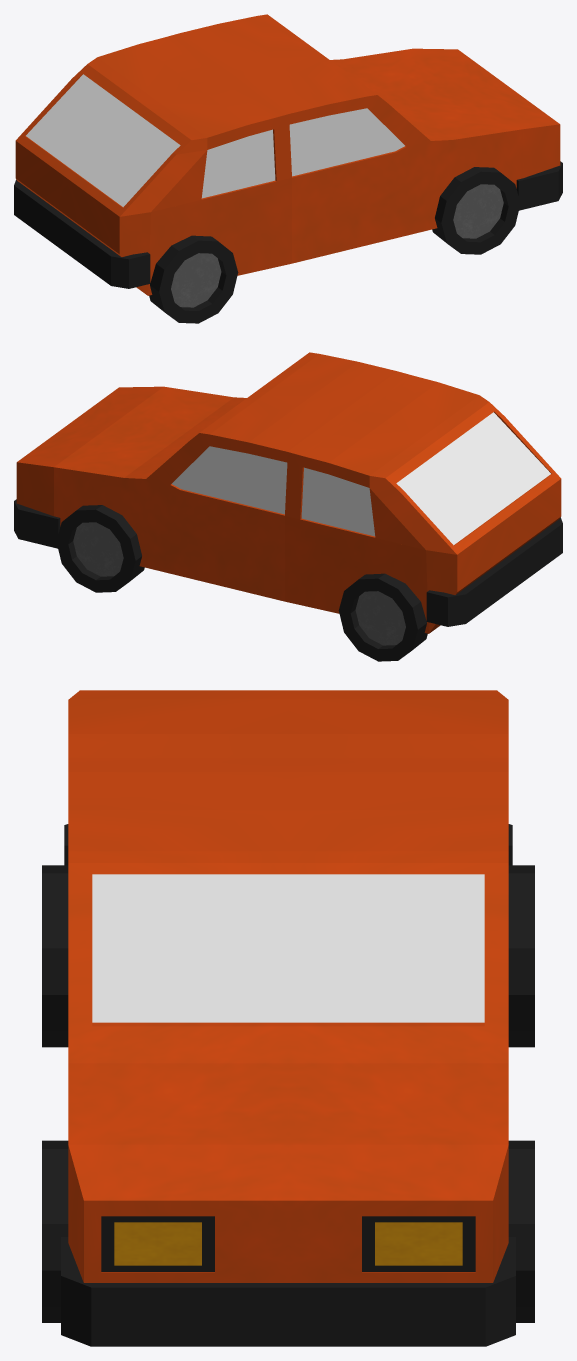
Rendered from mod_obj_veh_Yugo.fbx.
The picture shows the model from 3 angles, top to bottom: view 1: azimuth 30°, elevation 25°; view 2: azimuth 150°, elevation 25°; view 3: azimuth 270°, elevation 25°; orthographic projection. The views are drawn at different scales.
Parts seen in each view (by area): view 1: mesh_yugoNew_main, mesh_yugoNew_Glass, mesh_yugoNew_wheelBackLeft, mesh_yugoNew_wheelFrontLeft; view 2: mesh_yugoNew_main, mesh_yugoNew_Glass, mesh_yugoNew_wheelBackRight, mesh_yugoNew_wheelFrontRight; view 3: mesh_yugoNew_main, mesh_yugoNew_Glass, mesh_yugoNew_wheelBackLeft, mesh_yugoNew_wheelBackRight, mesh_yugoNew_wheelFrontLeft, mesh_yugoNew_wheelFrontRight.
Part boxes in pixels (x1,y1,x2,y2): mesh_yugoNew_main: (14, 14, 562, 295); mesh_yugoNew_Glass: (26, 74, 404, 207); mesh_yugoNew_wheelBackLeft: (149, 235, 238, 323); mesh_yugoNew_wheelFrontLeft: (432, 167, 520, 254); mesh_yugoNew_main: (14, 352, 562, 633); mesh_yugoNew_Glass: (172, 412, 550, 545); mesh_yugoNew_wheelBackRight: (338, 573, 427, 661); mesh_yugoNew_wheelFrontRight: (56, 505, 144, 592); mesh_yugoNew_main: (61, 690, 515, 1346); mesh_yugoNew_Glass: (92, 874, 484, 1022); mesh_yugoNew_wheelBackLeft: (42, 865, 68, 1047); mesh_yugoNew_wheelBackRight: (508, 865, 534, 1047); mesh_yugoNew_wheelFrontLeft: (42, 1140, 68, 1322); mesh_yugoNew_wheelFrontRight: (508, 1140, 534, 1322).
Size of the model in its own units: 879 by 337 by 416.
